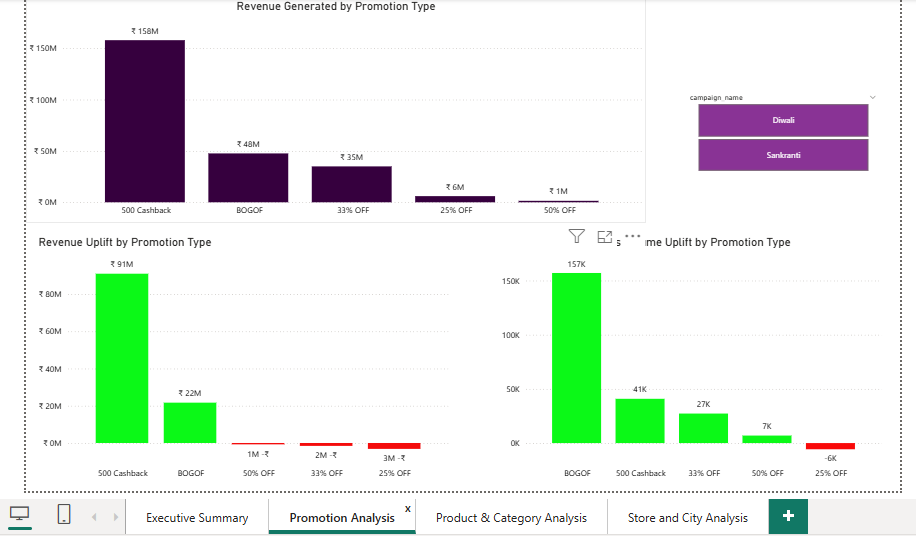

Layout of this report page (visuals, bound fields, positions):
{"tool":"powerbi","page":{"name":"Promotion Analysis","canvas":[1280,720],"ordinal":1},"visuals":[{"type":"clusteredColumnChart","title":"Revenue Uplift by Promotion Type","fields":{"Category":["fact_events.promo_type"],"Y":["fact_events.Total IR"]},"box":[13.3,345,611.7,366.7],"z":0},{"type":"clusteredColumnChart","title":"Sales Volume Uplift by Promotion Type","fields":{"Category":["fact_events.promo_type"],"Y":["fact_events.Total ISU"]},"box":[690.6,345.3,567.1,366.1],"z":1000},{"type":"clusteredColumnChart","title":"Revenue Generated by Promotion Type","fields":{"Category":["fact_events.promo_type"],"Y":["fact_events.Total Revenue After"]},"box":[0,0,907.5,327.5],"z":2000},{"type":"slicer","fields":{"Values":["dim_campaigns.campaign_name"]},"box":[958.3,133.3,298.3,125],"z":3000}]}

Visuals, with their boxes on the page's 1280x720 design canvas (x1, y1, x2, y2). These are canvas units, not pixel positions in the 916x536 screenshot, which may show the page scaled, cropped or inside an application window:
"Revenue Uplift by Promotion Type" clusteredColumnChart: region(13, 345, 625, 712)
"Sales Volume Uplift by Promotion Type" clusteredColumnChart: region(691, 345, 1258, 711)
"Revenue Generated by Promotion Type" clusteredColumnChart: region(0, 0, 908, 328)
slicer - dim_campaigns.campaign_name: region(958, 133, 1257, 258)
